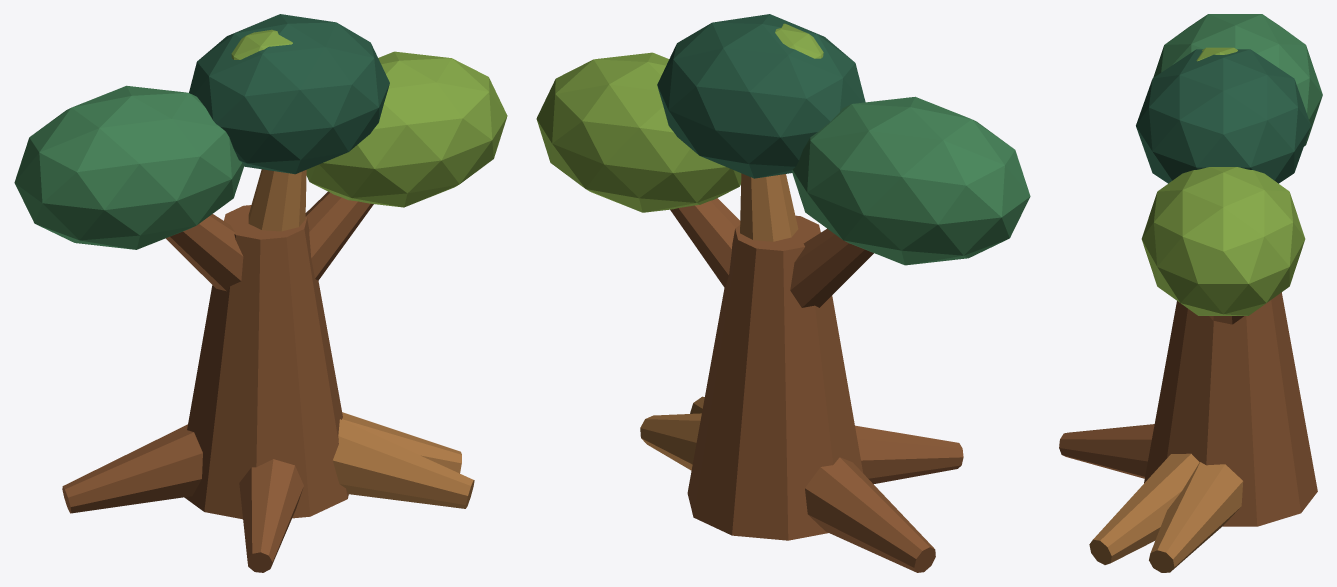
File: rootbound-buttress-v1.glb
The picture shows the model from 3 angles, left to right: view 1: azimuth 30°, elevation 25°; view 2: azimuth 150°, elevation 25°; view 3: azimuth 270°, elevation 25°; orthographic projection. The views are drawn at different scales.
Parts seen in each view (by area): view 1: rootbound_buttress_canopy_v1; view 2: rootbound_buttress_canopy_v1; view 3: rootbound_buttress_canopy_v1.
Boxes of the visible parts, box(x1,y1,x2,y2) form: rootbound_buttress_canopy_v1: box(14, 14, 507, 572); rootbound_buttress_canopy_v1: box(536, 14, 1030, 572); rootbound_buttress_canopy_v1: box(1059, 14, 1322, 572).
Bounding box in the file's own units: 6.15 × 5.96 × 3.16.
